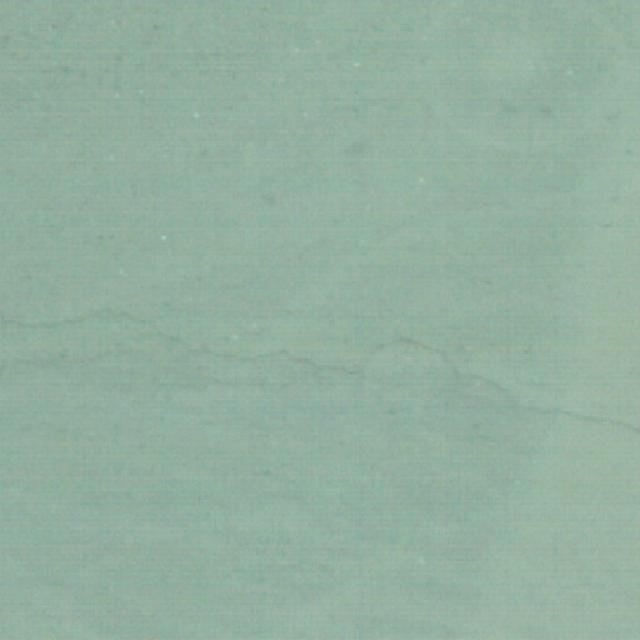Diagonal: (1, 288, 640, 455)
